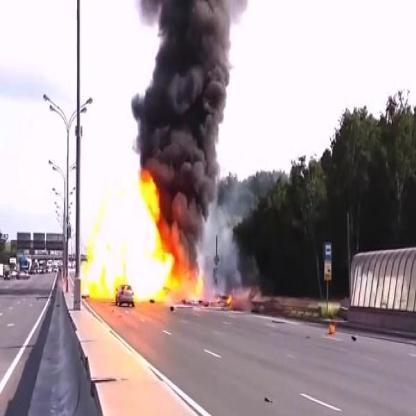fire: (82, 167, 177, 305), (188, 262, 206, 304), (221, 292, 235, 307), (327, 322, 336, 333)
